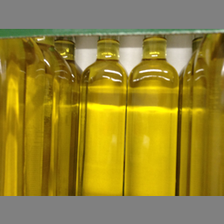oil: (75, 34, 126, 195), (128, 36, 179, 195)
